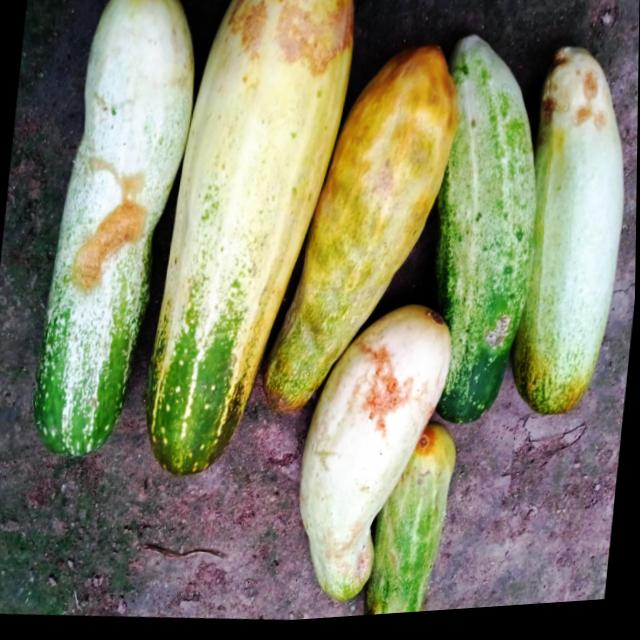Belly-Rot: (66, 152, 158, 304), (218, 0, 362, 93), (346, 333, 424, 448), (534, 65, 616, 152), (355, 549, 373, 586)
